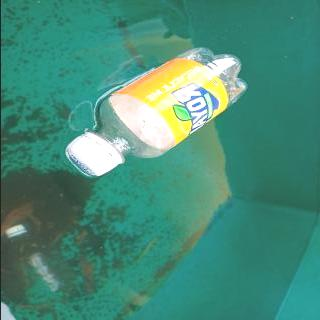bottle: (62, 45, 250, 177)
